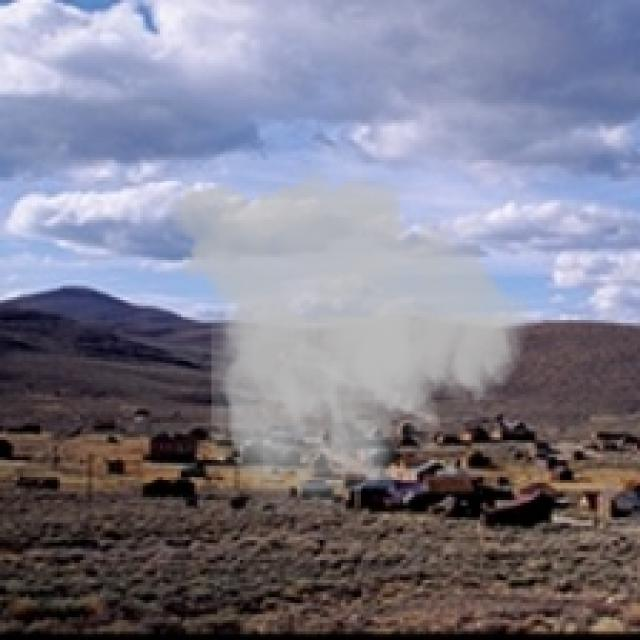smoke: (151, 160, 546, 514)
